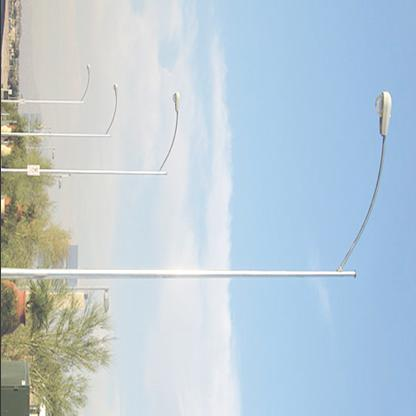off: (374, 77, 399, 230), (169, 82, 186, 158)
